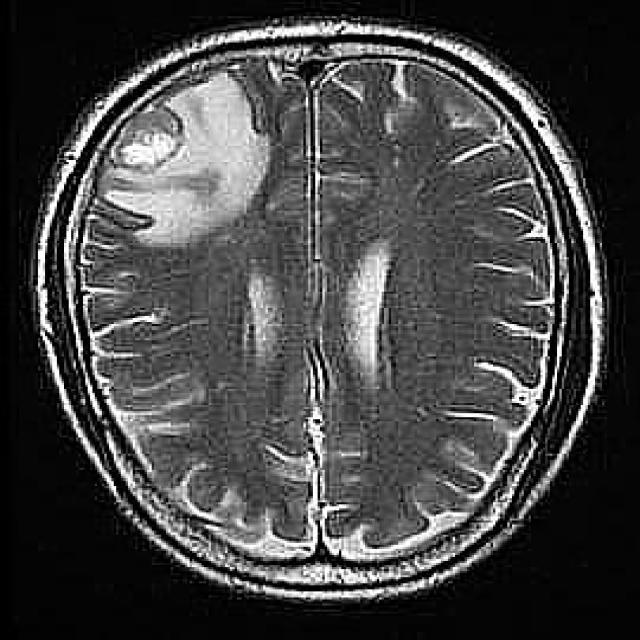Tumor-Cell: (108, 84, 276, 255)
